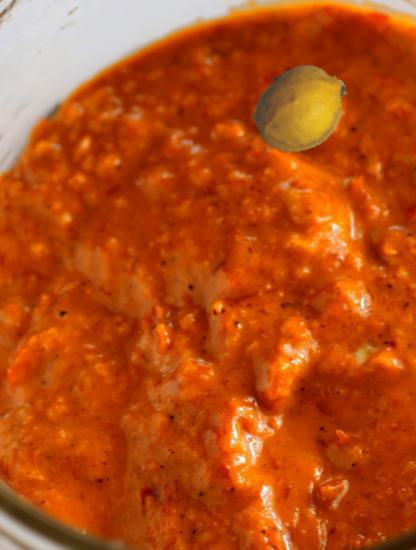Lemon: (252, 59, 351, 158)
